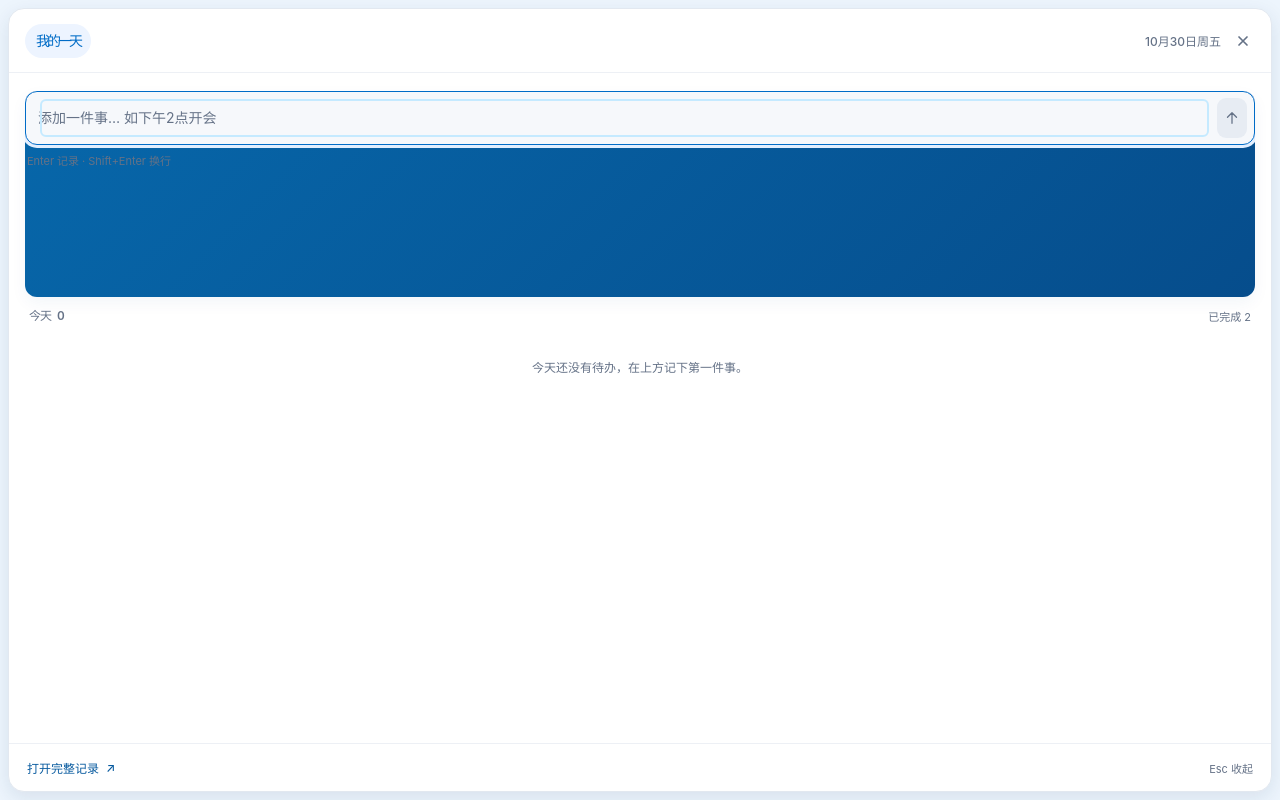
TodayPanelApp › submits a schedule from the floating window and clears only on success
The width and height of the screenshot is (1280, 800).
Type "明天下午3点开会" into the text box named "日程或完成指令". click: {"x": 624, "y": 118}
box: 38,97 -> 1211,139
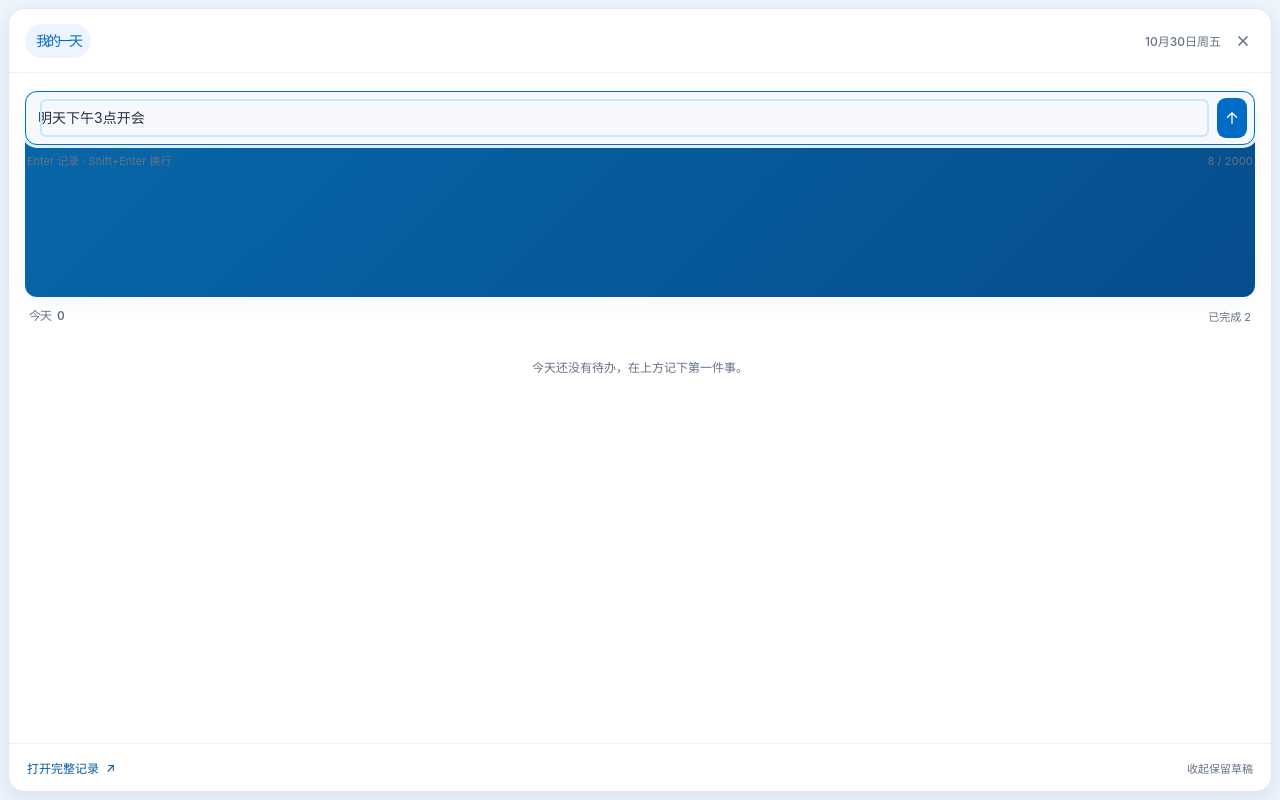
Click the button named "记录". click: {"x": 1232, "y": 118}
box: 1217,98 -> 1247,138
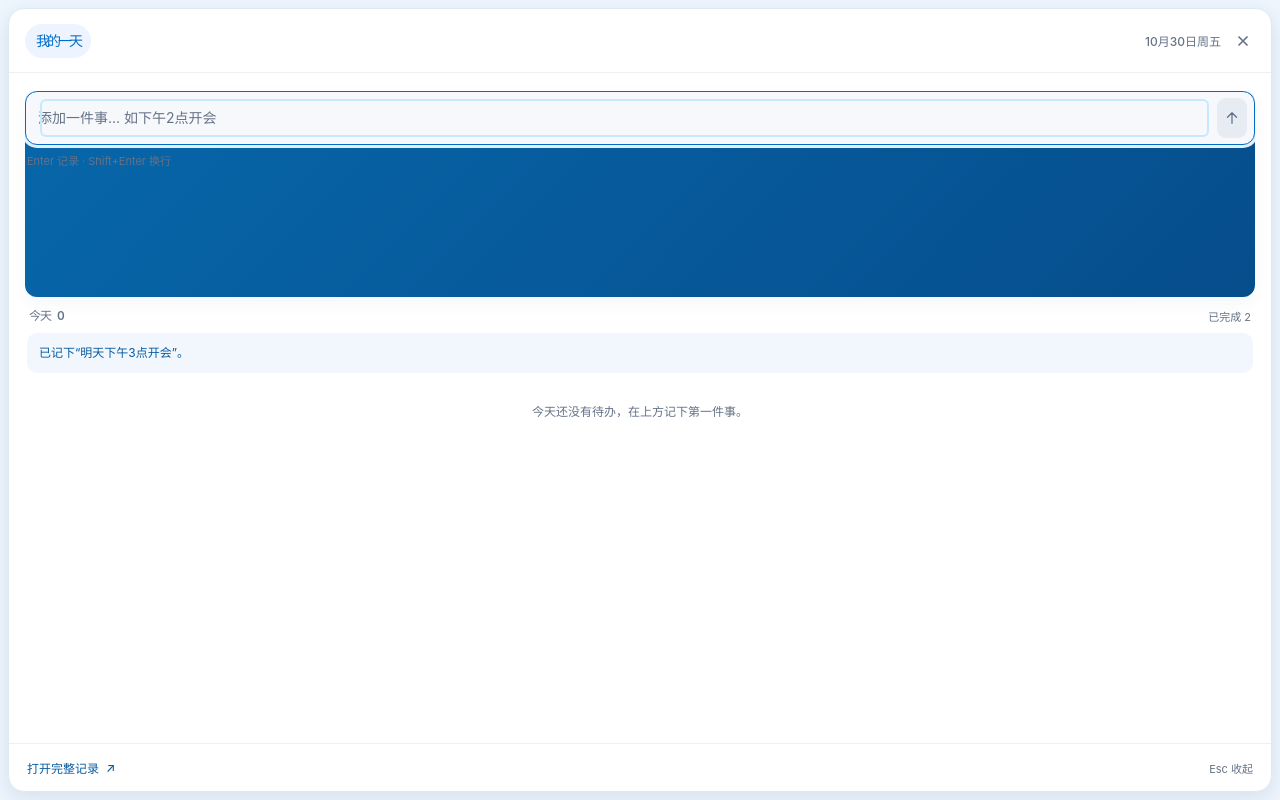
Now the text "已记下“明天下午3点开会”。" is shown, box 27,333 -> 1253,373
Now the text box named "日程或完成指令" is empty, box 38,97 -> 1211,139
